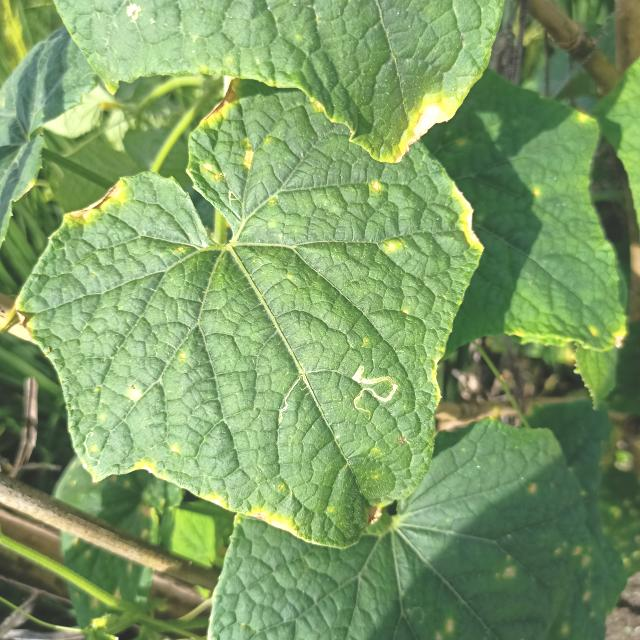disease_cucumber: (195, 101, 258, 184), (136, 441, 182, 477), (384, 236, 405, 255), (128, 382, 143, 402), (369, 178, 383, 198)
